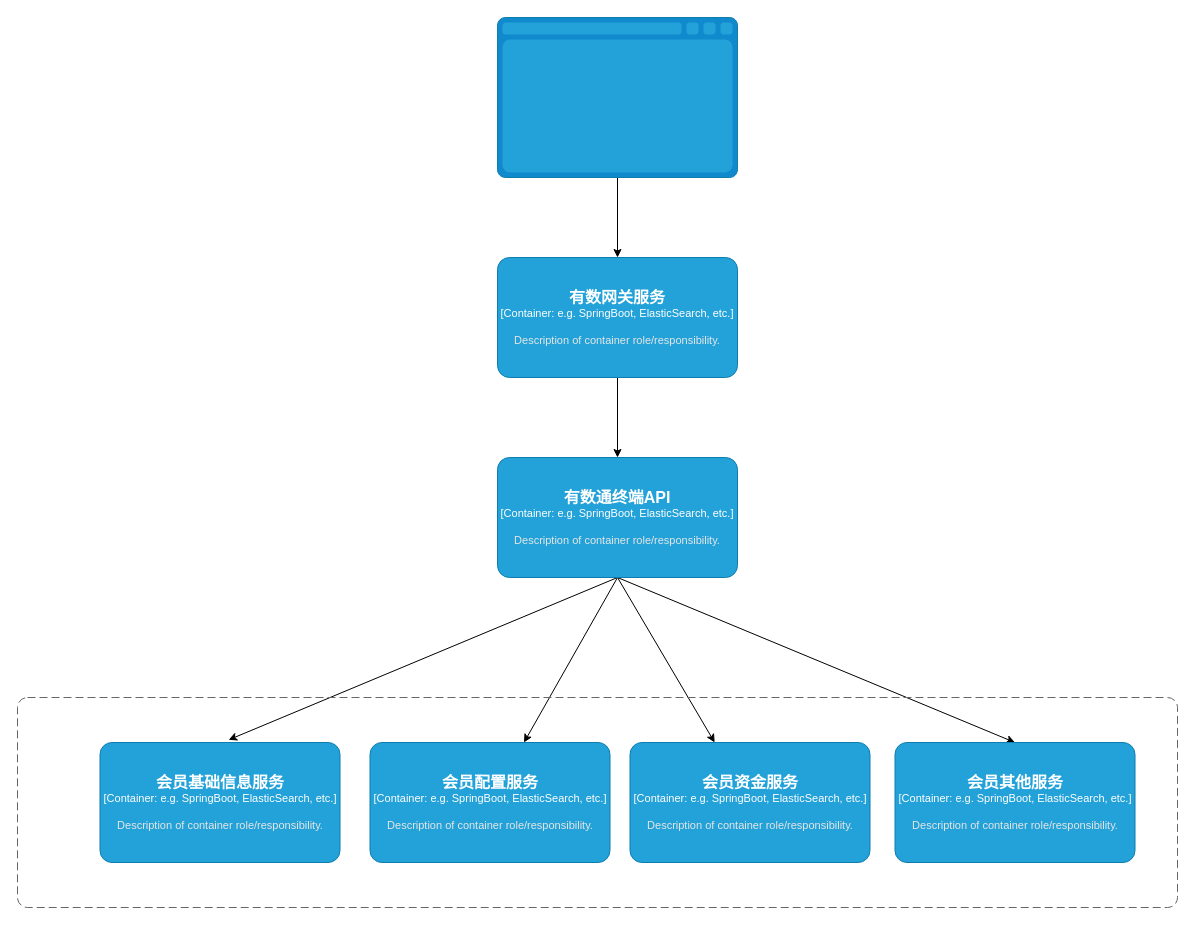
The diagram is 1195 pixels wide and 925 high, and some of its shapes have lost their labels. Each missing label, with the box of its shape:
会员服务 [Container]: (16, 696, 1178, 908)
有数通插件 [Container: C++] 承载有数收银台业务: (496, 16, 738, 178)
